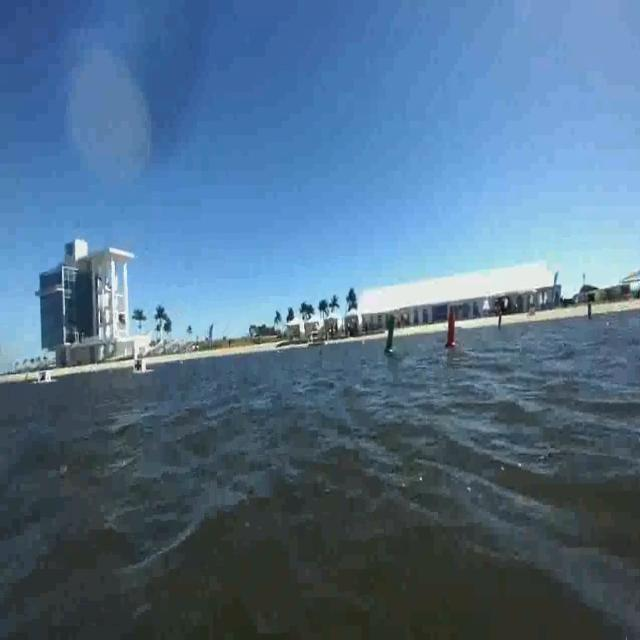green-column-buoy: (385, 315, 398, 356)
red-column-buoy: (442, 311, 458, 351)
